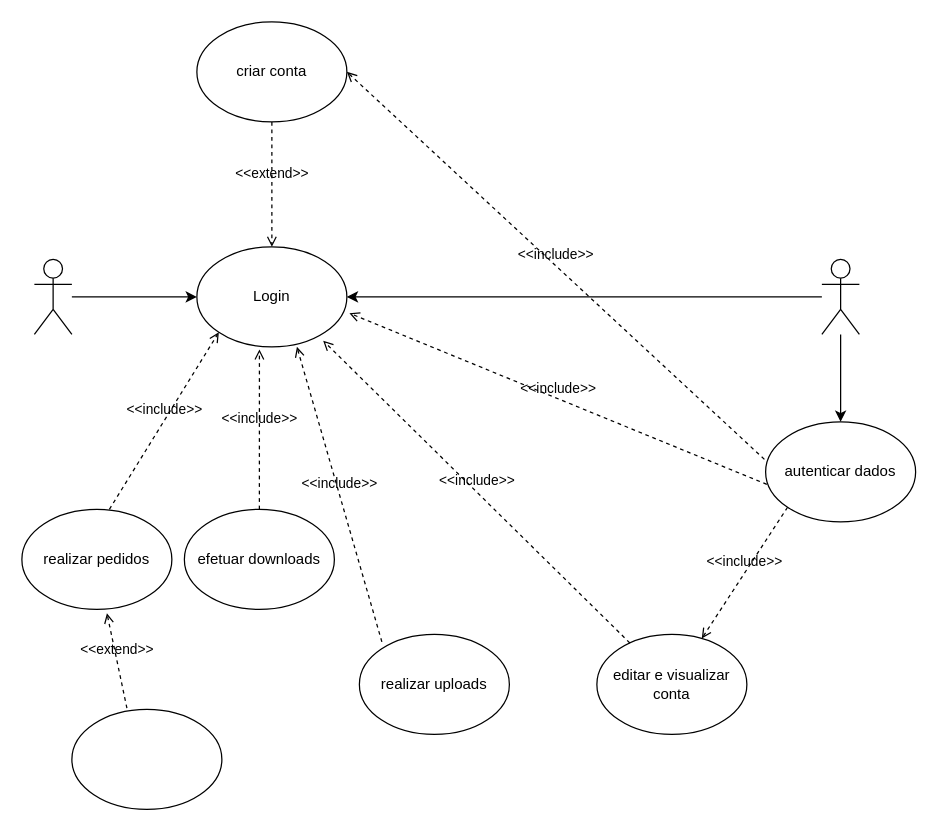
This 938x831 diagram has some shape labels left out. The centre of each missing label's shape, as x and y in pixels:
Banco de dados: pixel 840 296
realizar pagamentos: pixel 146 758
Usuário: pixel 52 296
